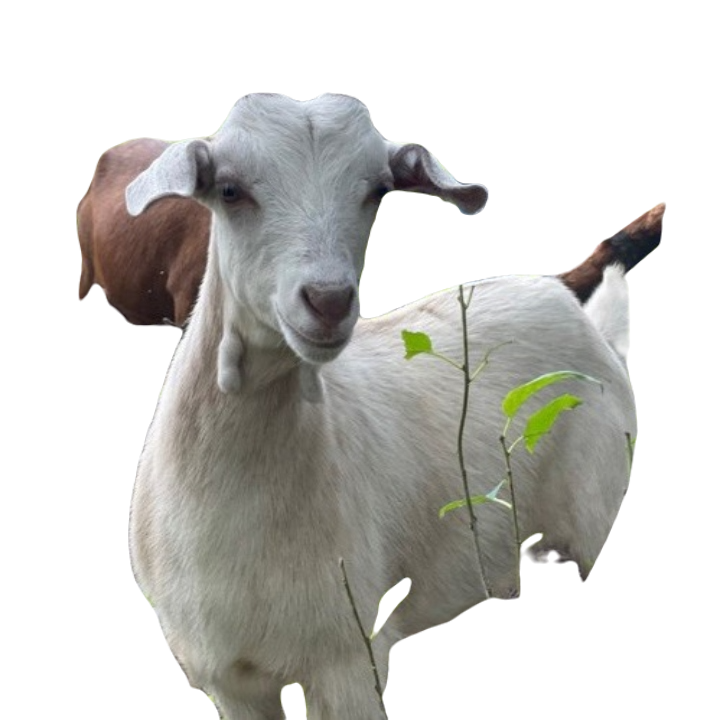Goat: (122, 91, 639, 719)
